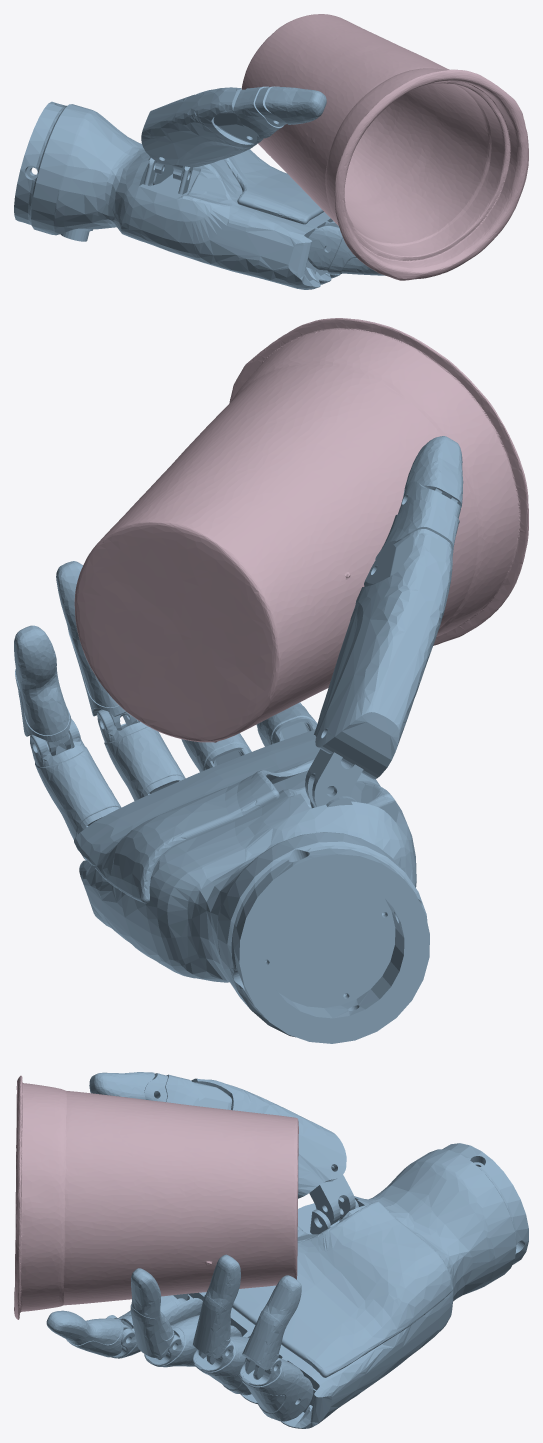
The picture shows the model from 3 angles, top to bottom: view 1: azimuth 30°, elevation 25°; view 2: azimuth 150°, elevation 25°; view 3: azimuth 270°, elevation 25°; orthographic projection. The views are drawn at different scales.
Visible parts, largest first — view 1: obj_mesh_grasp_10.obj, world; view 2: world, obj_mesh_grasp_10.obj; view 3: world, obj_mesh_grasp_10.obj.
Part boxes in pixels (bbox=[...]): obj_mesh_grasp_10.obj: bbox=[241, 14, 528, 280]; world: bbox=[14, 86, 385, 289]; world: bbox=[14, 436, 463, 1043]; obj_mesh_grasp_10.obj: bbox=[74, 318, 528, 742]; world: bbox=[46, 1072, 528, 1428]; obj_mesh_grasp_10.obj: bbox=[14, 1075, 298, 1319].
Size of the model in its own units: 0.1633 by 0.1364 by 0.1967.
